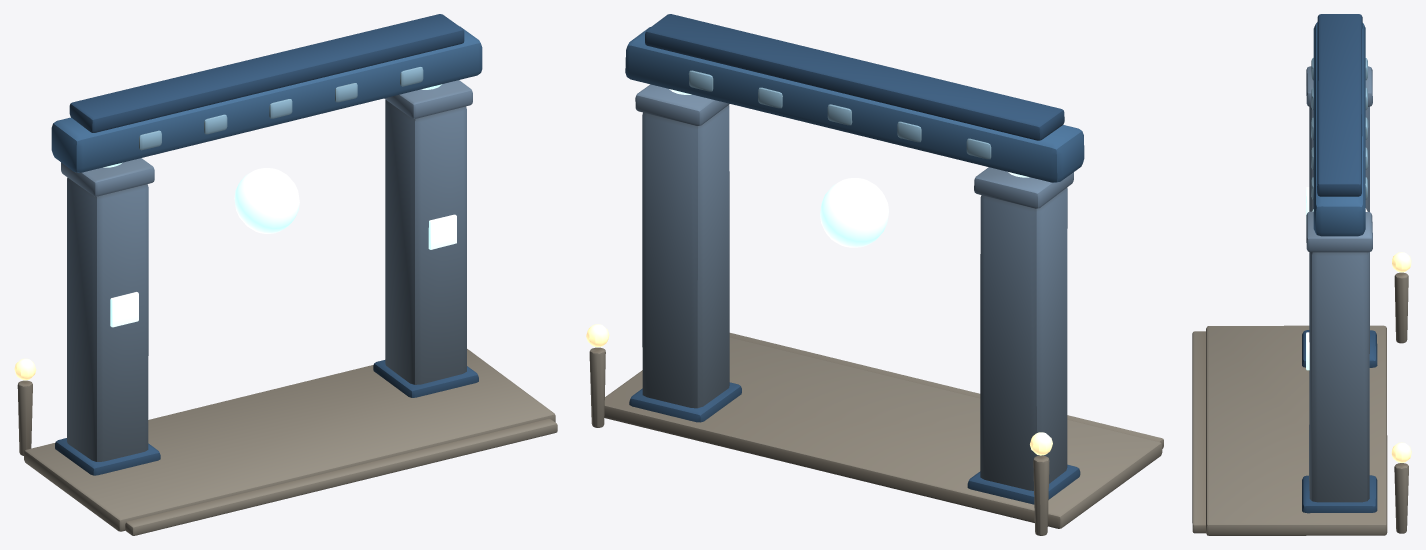
The picture shows the model from 3 angles, left to right: view 1: azimuth 30°, elevation 25°; view 2: azimuth 150°, elevation 25°; view 3: azimuth 270°, elevation 25°; orthographic projection. The views are drawn at different scales.
Parts seen in each view (by area): view 1: gate_01ca31a7; view 2: gate_01ca31a7; view 3: gate_01ca31a7.
Boxes of the visible parts, x1,y1,x2,y2 form: gate_01ca31a7: (14, 14, 557, 535); gate_01ca31a7: (586, 14, 1163, 535); gate_01ca31a7: (1192, 14, 1411, 535).
Bounding box in the file's own units: 5.5 × 4.36 × 2.55.
